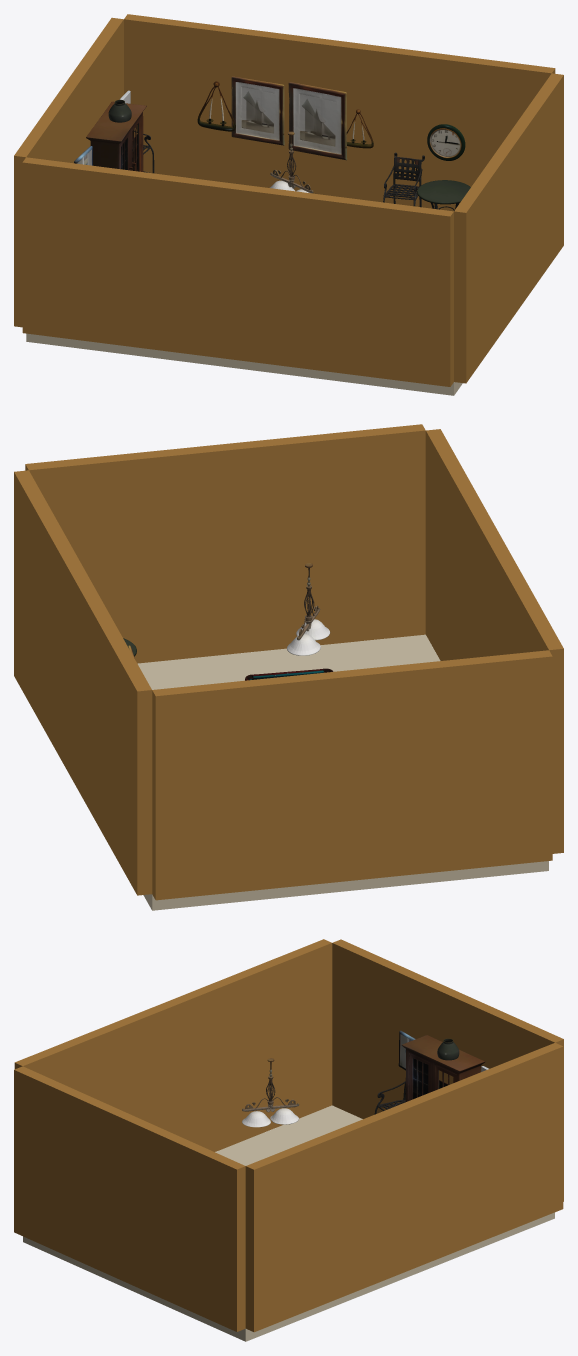
Rendered from stage2.glb.
The picture shows the model from 3 angles, top to bottom: view 1: azimuth 30°, elevation 25°; view 2: azimuth 150°, elevation 25°; view 3: azimuth 270°, elevation 25°; orthographic projection. The views are drawn at different scales.
Parts seen in each view (by area): view 1: Wall_01, geometry_0.005, Floor, geometry_0.006, geometry_0.004, geometry_0, geometry_0.009, geometry_0.011, geometry_0.007; view 2: Wall_01, Floor, geometry_0.007; view 3: Wall_01, Floor, geometry_0.006, geometry_0.007.
Boxes of the visible parts, box(x1,y1,x2,y2) form: Wall_01: box(14, 14, 563, 386); geometry_0.005: box(231, 76, 347, 160); Floor: box(26, 333, 462, 395); geometry_0.006: box(86, 101, 146, 171); geometry_0.004: box(134, 131, 424, 207); geometry_0: box(427, 124, 465, 160); geometry_0.009: box(417, 180, 470, 210); geometry_0.011: box(197, 81, 373, 148); geometry_0.007: box(270, 131, 313, 193); Wall_01: box(14, 424, 563, 900); Floor: box(137, 634, 548, 910); geometry_0.007: box(287, 563, 330, 655); Wall_01: box(14, 939, 563, 1332); Floor: box(23, 1105, 554, 1341); geometry_0.006: box(401, 1035, 485, 1101); geometry_0.007: box(242, 1058, 299, 1127).
Size of the model in its own units: 11.22 by 3.99 by 11.31.
Materials: 13 (11 with a texture image).
